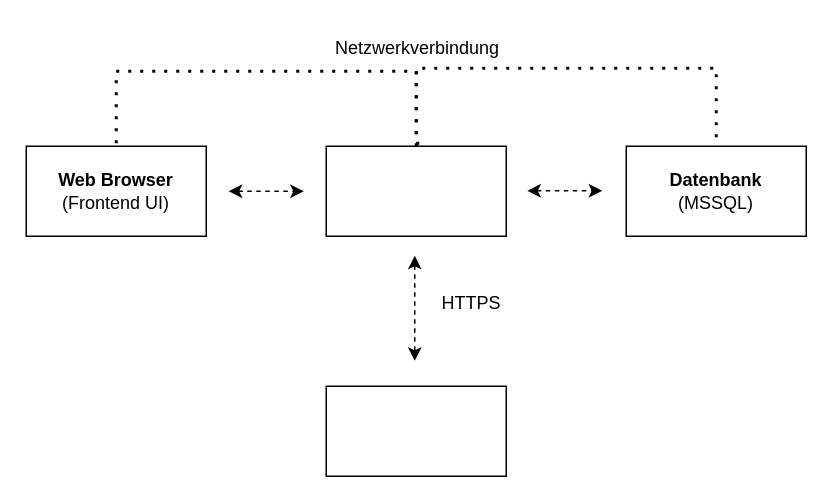
The diagram is 833 pixels wide and 503 high, and some of its shapes have lost their labels. The shapes that lost their labels are listed below. From the top down, each one's centre as x and y in pixels, then its label:
At (415,190): "Web API (ASP.NET API)".
At (415,430): "Mobil App (.NET MAUI)".
